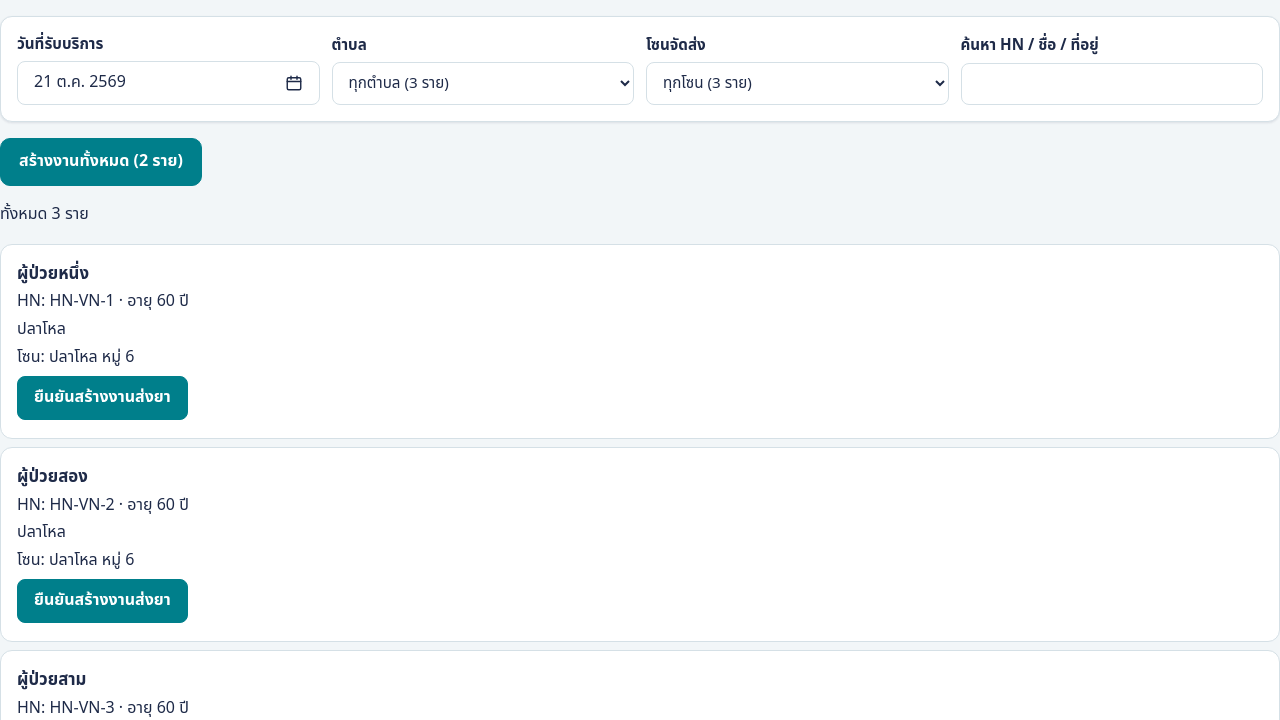
it: creates jobs for every patient in the filtered list at once and reports what failed
The image size is (1280, 720).
Click the button "สร้างงานทั้งหมด (2 ราย)": (101, 162) x1=0 y1=138 x2=202 y2=186
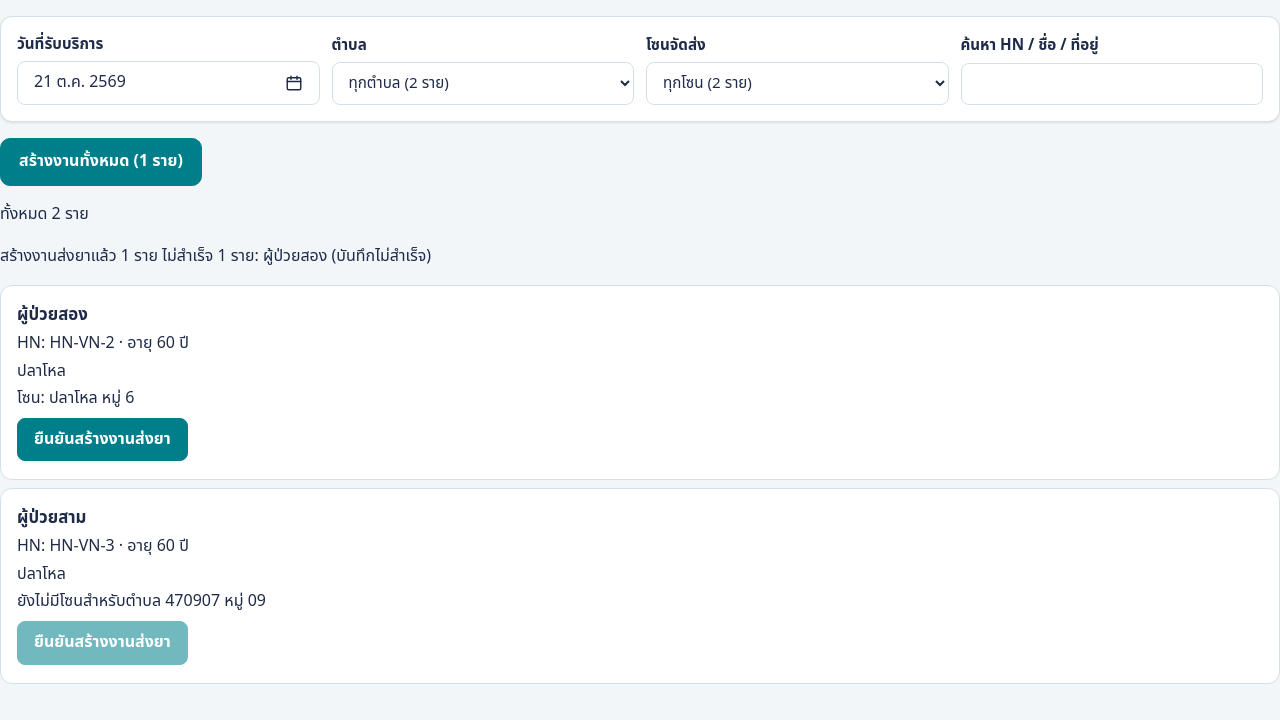
Now the text "สร้างงานส่งยาแล้ว 1 ราย ไม่สำเร็จ 1 ราย: ผู้ป่วยสอง (บันทึกไม่สำเร็จ)" is shown, box x1=0 y1=244 x2=431 y2=268
Now the heading "ผู้ป่วยหนึ่ง" is gone
Now the button "สร้างงานทั้งหมด (1 ราย)" is shown, box x1=0 y1=138 x2=202 y2=186
